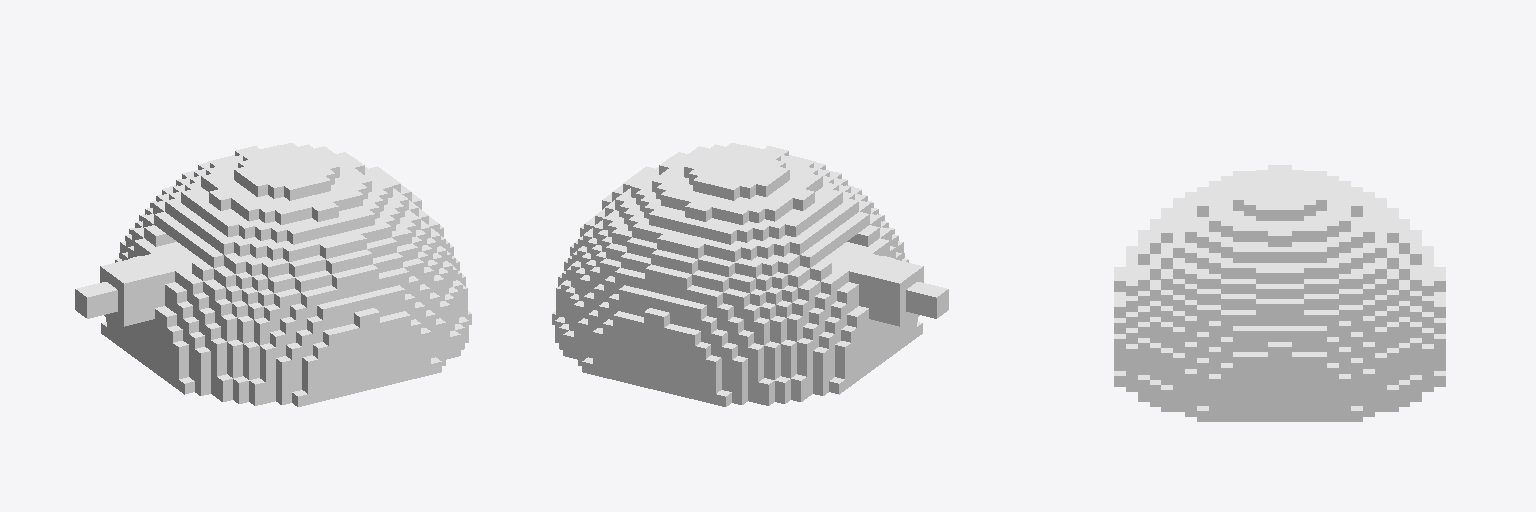
File: dzialko.obj
3 views of the same model, side by side, from view 1: azimuth 30°, elevation 25°; view 2: azimuth 150°, elevation 25°; view 3: azimuth 270°, elevation 25° (orthographic).
Bounding box in the file's own units: 34 × 15 × 28.